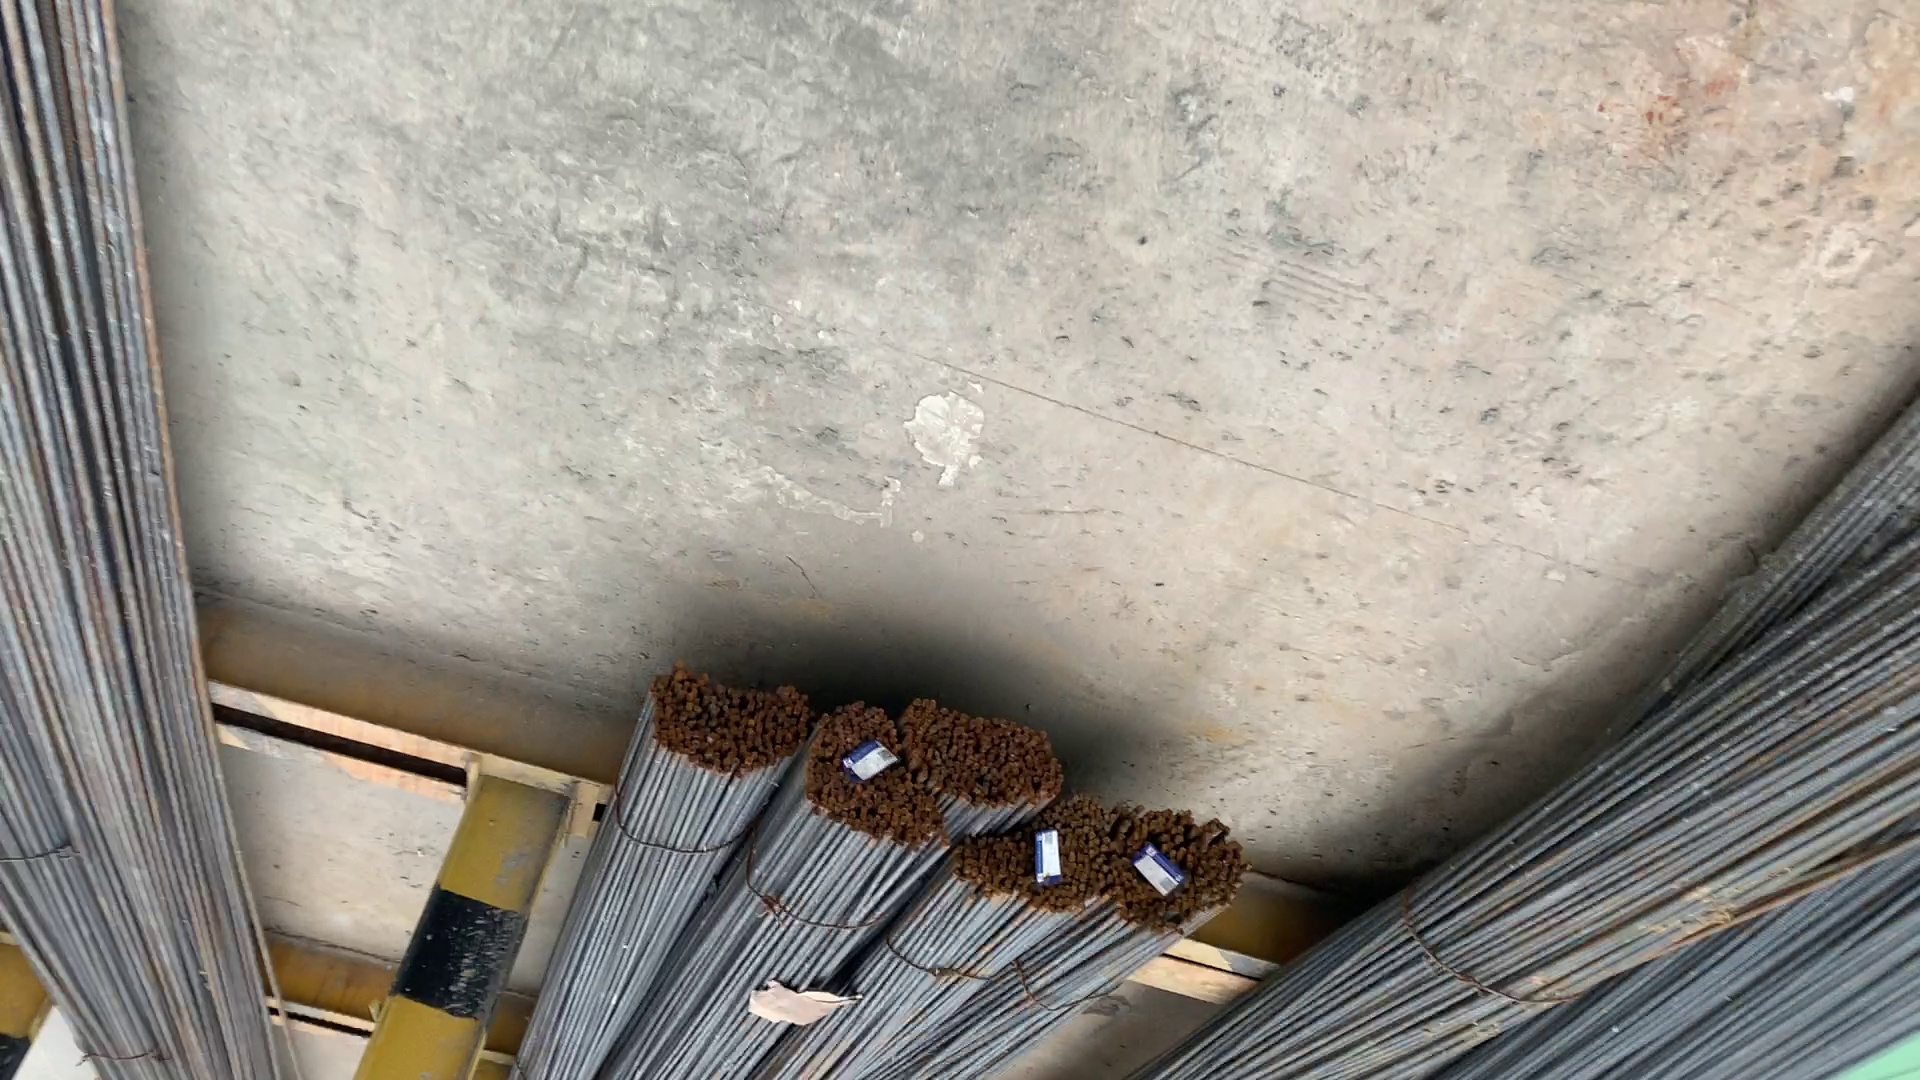rebar: (638, 665, 803, 781), (806, 711, 934, 853), (960, 810, 1114, 909), (916, 704, 1062, 804), (1122, 819, 1247, 928)
